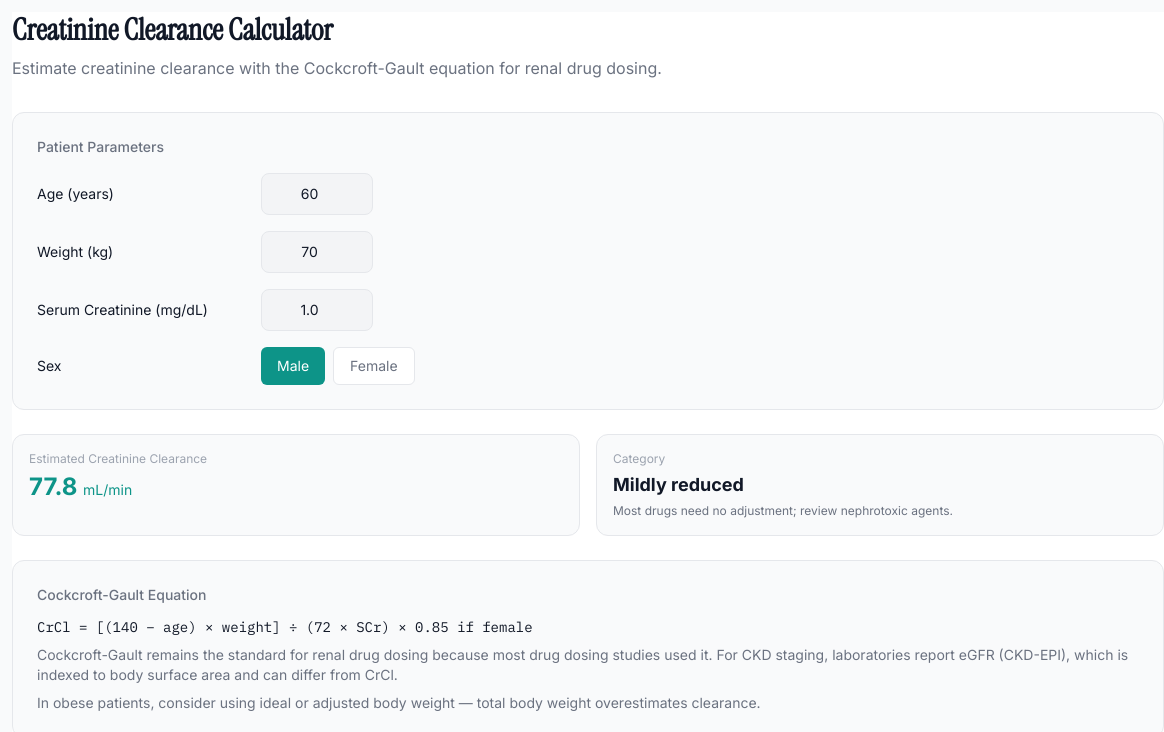
Test case: CreatinineClearanceCalculator › recalculates when switching to female
Click the button "female" at [374, 366], box x1=333 y1=347 x2=415 y2=385
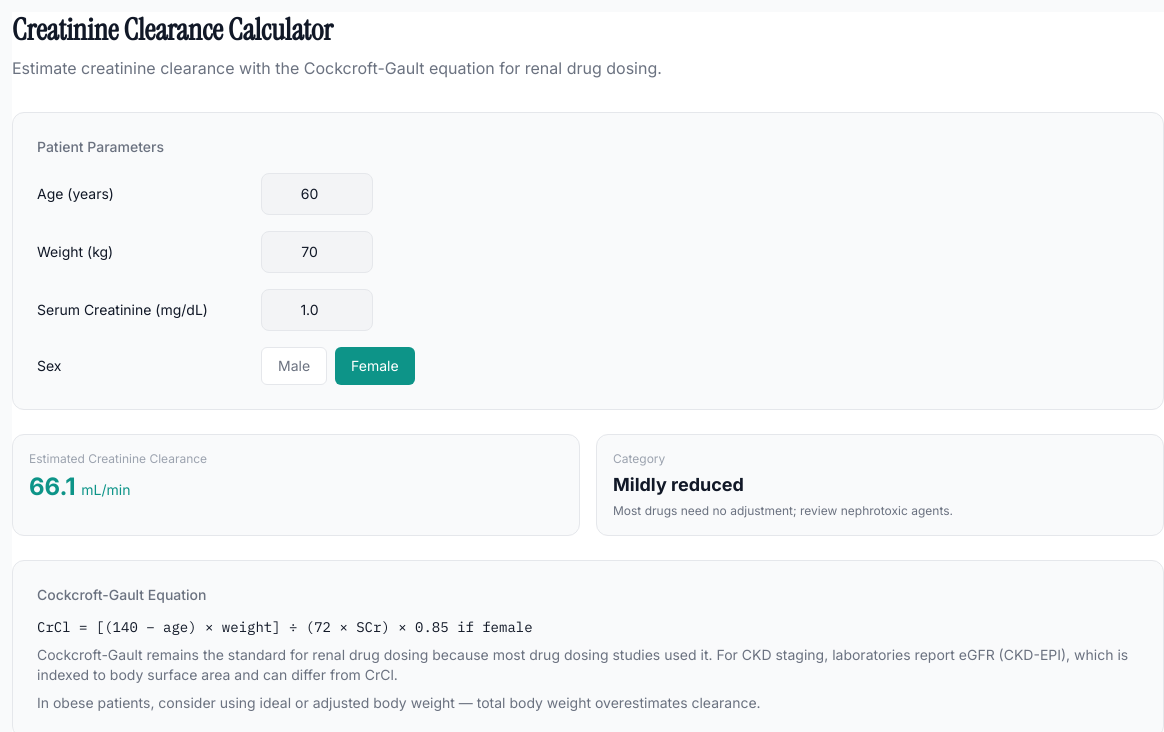
Check: the text "66.1" is shown, box x1=29 y1=472 x2=76 y2=501
